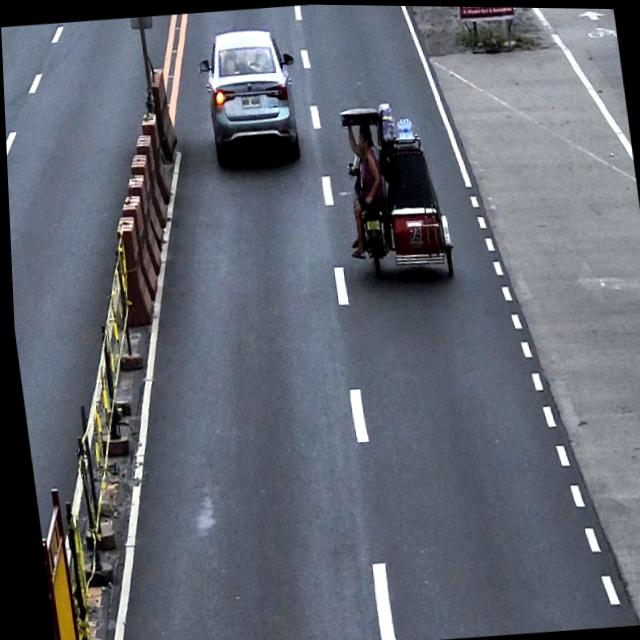Car: (192, 23, 305, 165)
License-Plate: (239, 90, 261, 109), (362, 217, 380, 232)
Tricycle: (331, 97, 455, 284)
